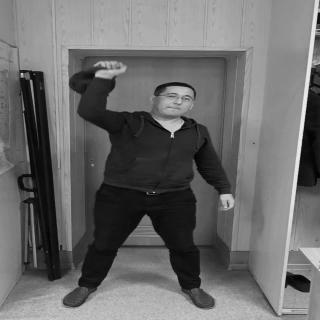kettlebell: (69, 65, 118, 95)
